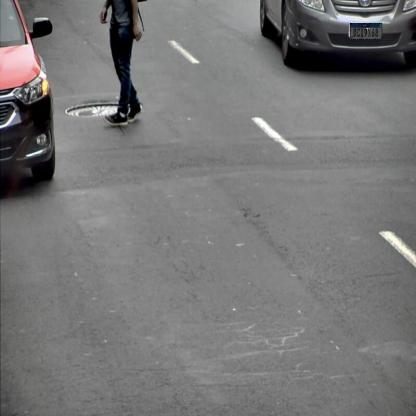PlacaM: (350, 23, 382, 39)
